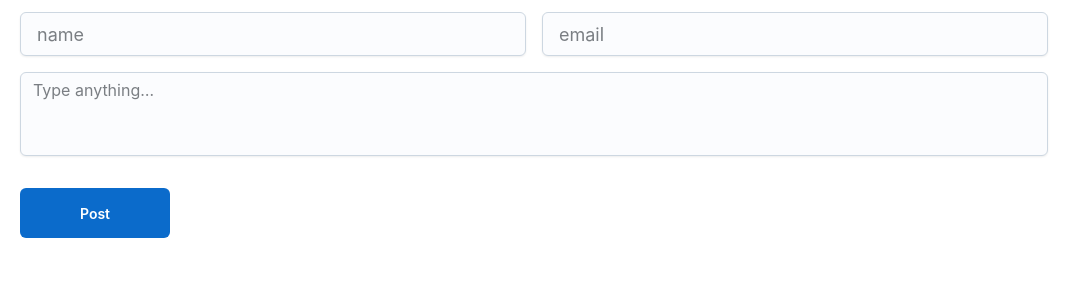
CommentSection Component › validates incorrect email format
Type "John Doe" into the field with placeholder "name".
click(273, 34); type("John Doe")  # box top-left (37, 13), bottom-right (509, 55)
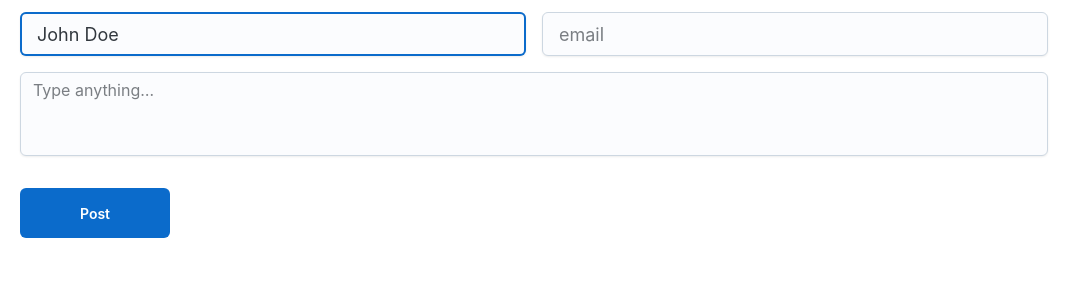
Type "invalid-email" into the field with placeholder "email".
click(795, 34); type("invalid-email")  # box top-left (559, 13), bottom-right (1031, 55)
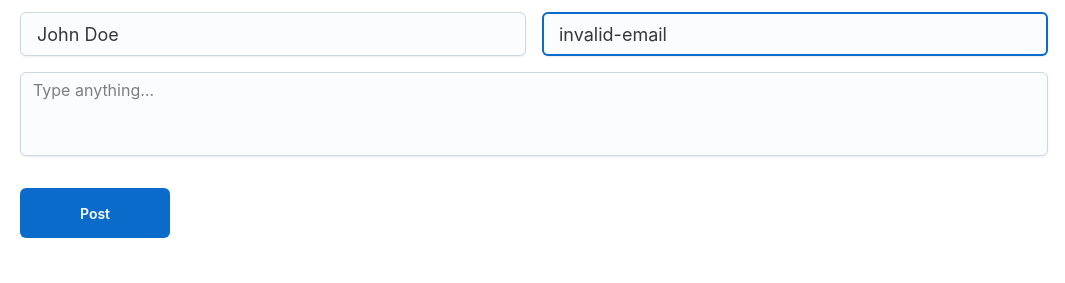
Type "This is a comment." into the text box with placeholder "Type anything…".
click(540, 114); type("This is a comment.")  # box top-left (33, 78), bottom-right (1047, 150)
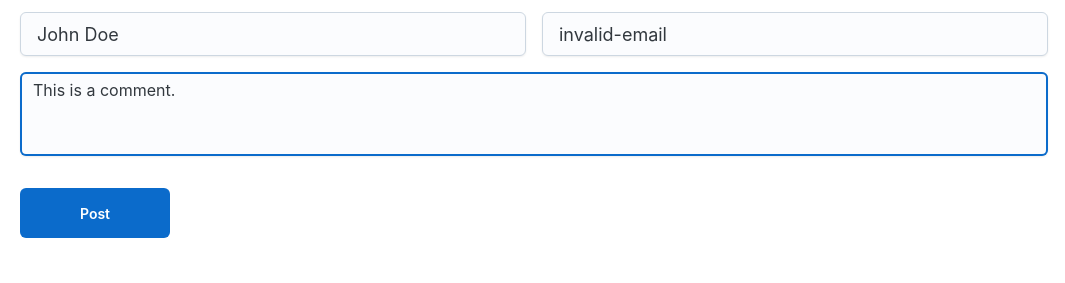
Note: Click the submit button
Click the button with test id "submitButton".
click(95, 213)  # box top-left (20, 188), bottom-right (170, 238)
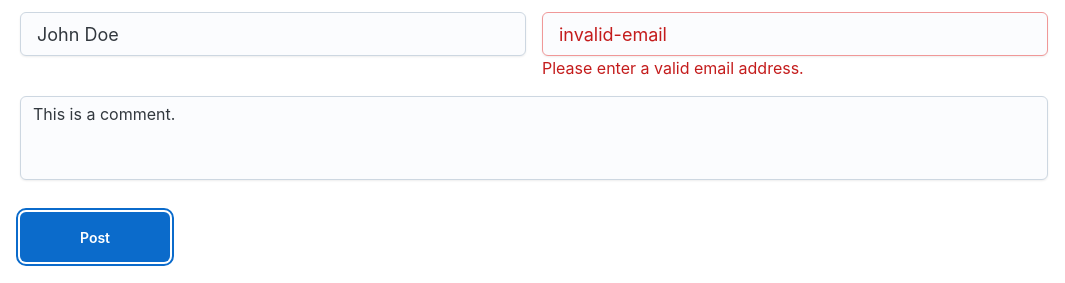
Result: the text "Please enter a valid email address." is shown at top-left (542, 58), bottom-right (804, 78)
